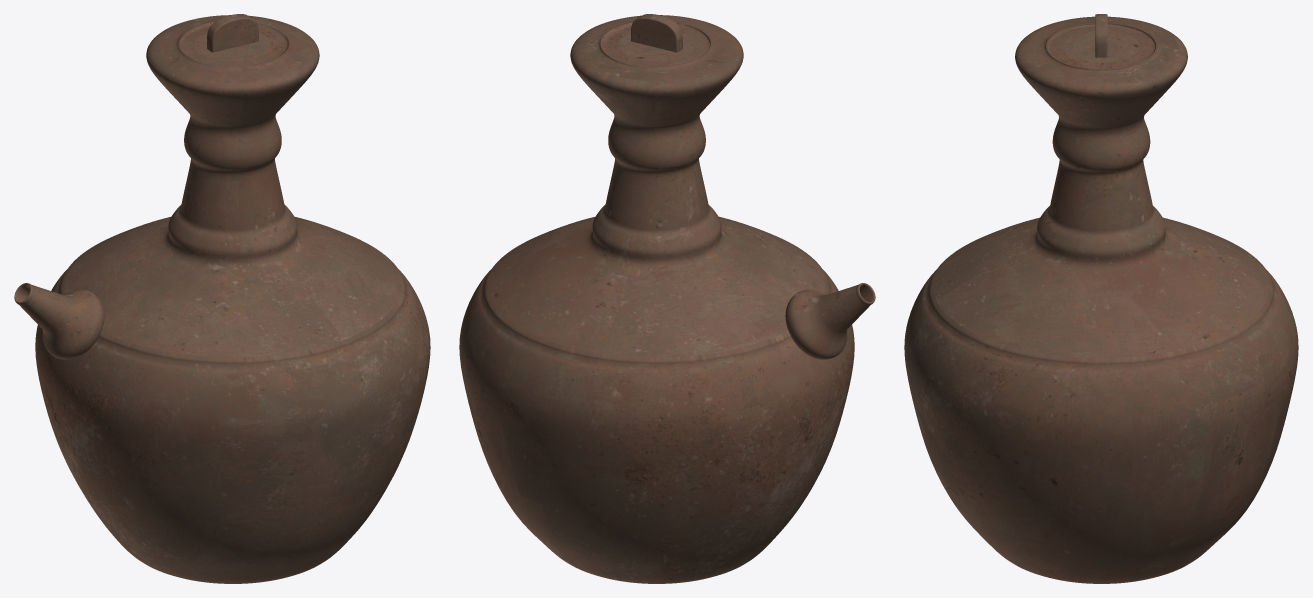
File: kendi.fbx
The picture shows the model from 3 angles, left to right: view 1: azimuth 30°, elevation 25°; view 2: azimuth 150°, elevation 25°; view 3: azimuth 270°, elevation 25°; orthographic projection.
Parts seen in each view (by area): view 1: Cylinder; view 2: Cylinder; view 3: Cylinder.
Part boxes in pixels (box(x1,y1,x2,y2)): Cylinder: box(14, 14, 430, 583); Cylinder: box(459, 14, 875, 583); Cylinder: box(904, 14, 1298, 583).
Bounding box in the file's own units: 285 × 372 × 252.
